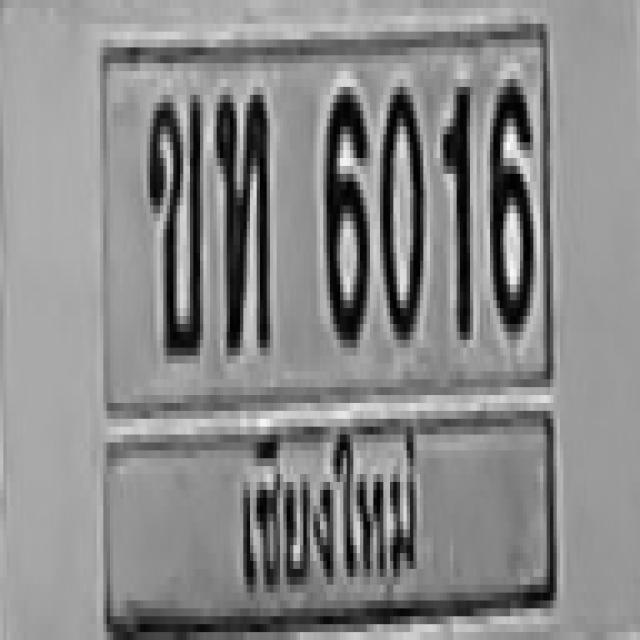0: (377, 79, 420, 332)
1: (440, 79, 470, 332)
11KhorKhai: (147, 87, 200, 348)
32ThorThaHan: (213, 87, 267, 348)
6: (323, 79, 367, 340), (487, 71, 530, 324)
ChiangMai: (230, 421, 425, 607)
